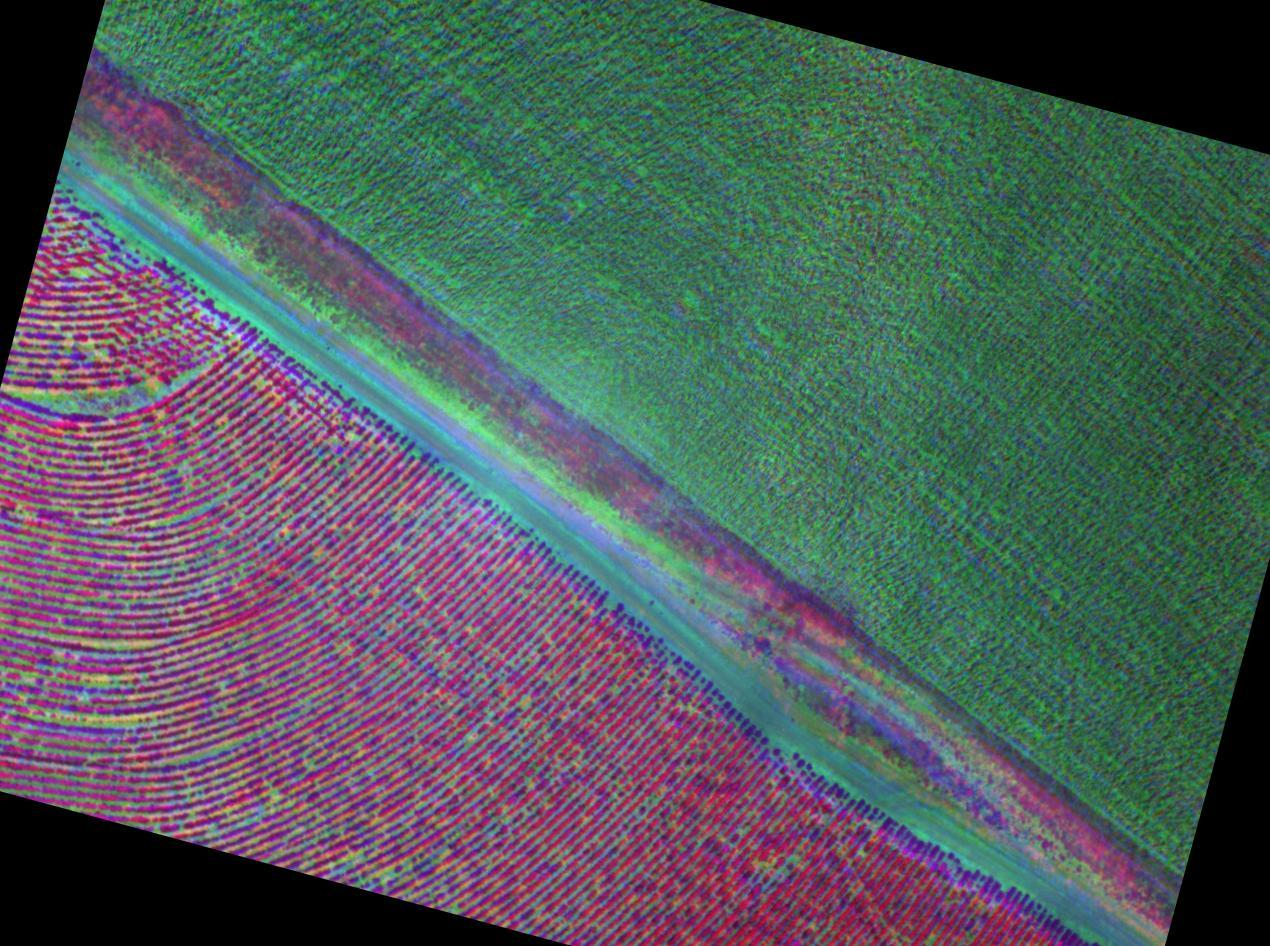dc: (3, 378, 224, 435), (163, 483, 256, 571), (178, 728, 266, 820), (328, 845, 455, 896), (23, 658, 88, 739)
